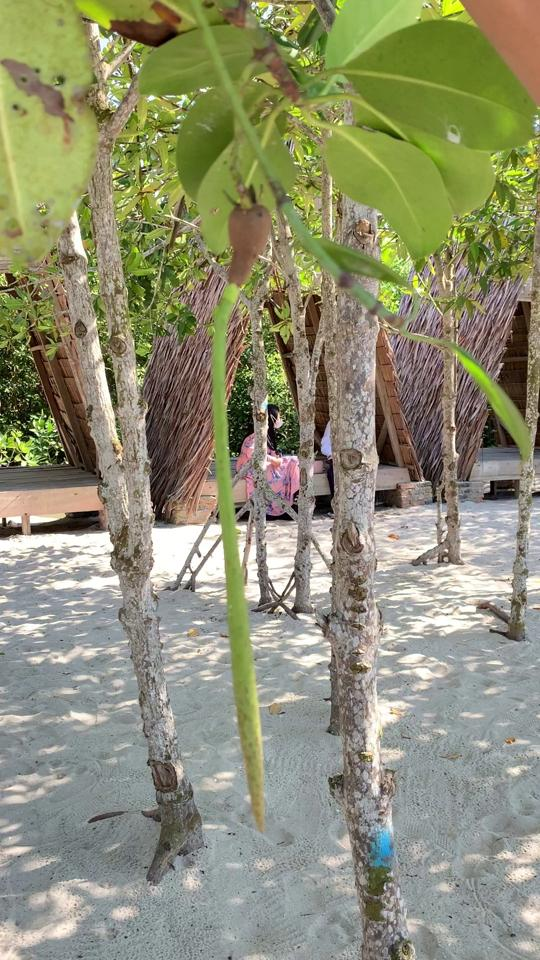setengah matang: (209, 174, 278, 838)
